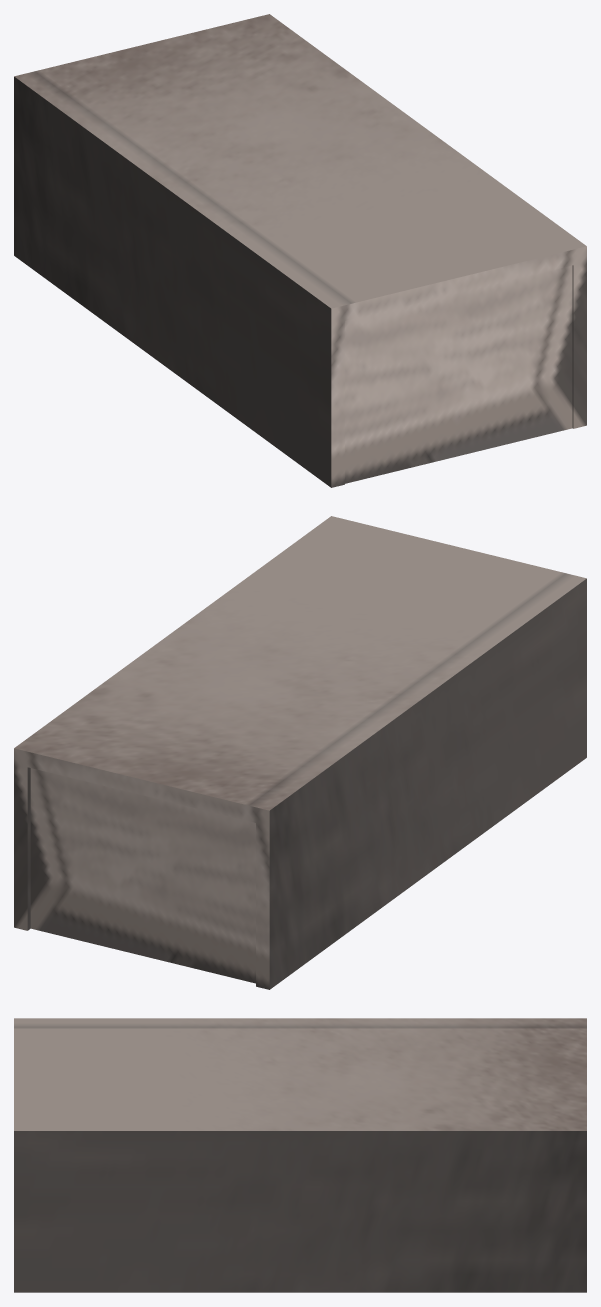
Rendered from pz_bookcase_white.obj.
3 views of the same model, one above another, from view 1: azimuth 30°, elevation 25°; view 2: azimuth 150°, elevation 25°; view 3: azimuth 270°, elevation 25° (orthographic). The views are drawn at different scales.
Bounding box in the file's own units: 0.94 × 0.63 × 2.02.
Materials: 1 (1 with a texture image).
